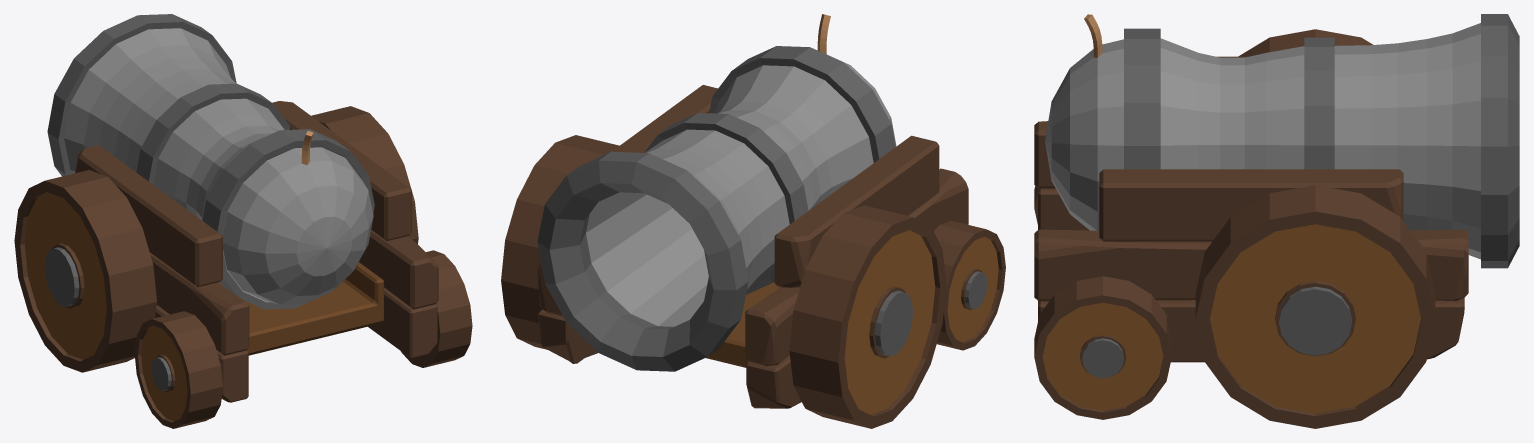
Rendered from Cannon.fbx.
The picture shows the model from 3 angles, left to right: view 1: azimuth 30°, elevation 25°; view 2: azimuth 150°, elevation 25°; view 3: azimuth 270°, elevation 25°; orthographic projection. The views are drawn at different scales.
Parts seen in each view (by area): view 1: Wheels, Cannon_Front, Cannon_Platform, Cannon_Back; view 2: Cannon_Front, Wheels, Cannon_Platform, Cannon_Back; view 3: Wheels, Cannon_Front, Cannon_Platform, Cannon_Back.
Boxes of the visible parts, x1,y1,x2,y2 form: Wheels: [14, 106, 472, 428]; Cannon_Front: [47, 14, 374, 309]; Cannon_Platform: [75, 101, 438, 402]; Cannon_Back: [222, 131, 373, 304]; Cannon_Front: [537, 46, 895, 371]; Wheels: [501, 135, 1005, 428]; Cannon_Platform: [537, 85, 968, 408]; Cannon_Back: [817, 14, 896, 146]; Wheels: [1034, 29, 1435, 428]; Cannon_Front: [1124, 14, 1519, 268]; Cannon_Platform: [1034, 56, 1468, 362]; Cannon_Back: [1045, 14, 1123, 230].
Size of the model in its own units: 171 by 138 by 188.
